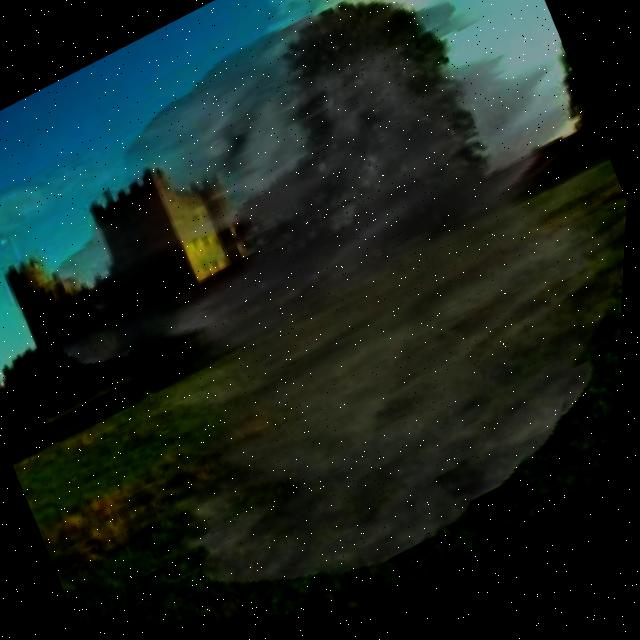Smoke: (0, 0, 630, 627)
